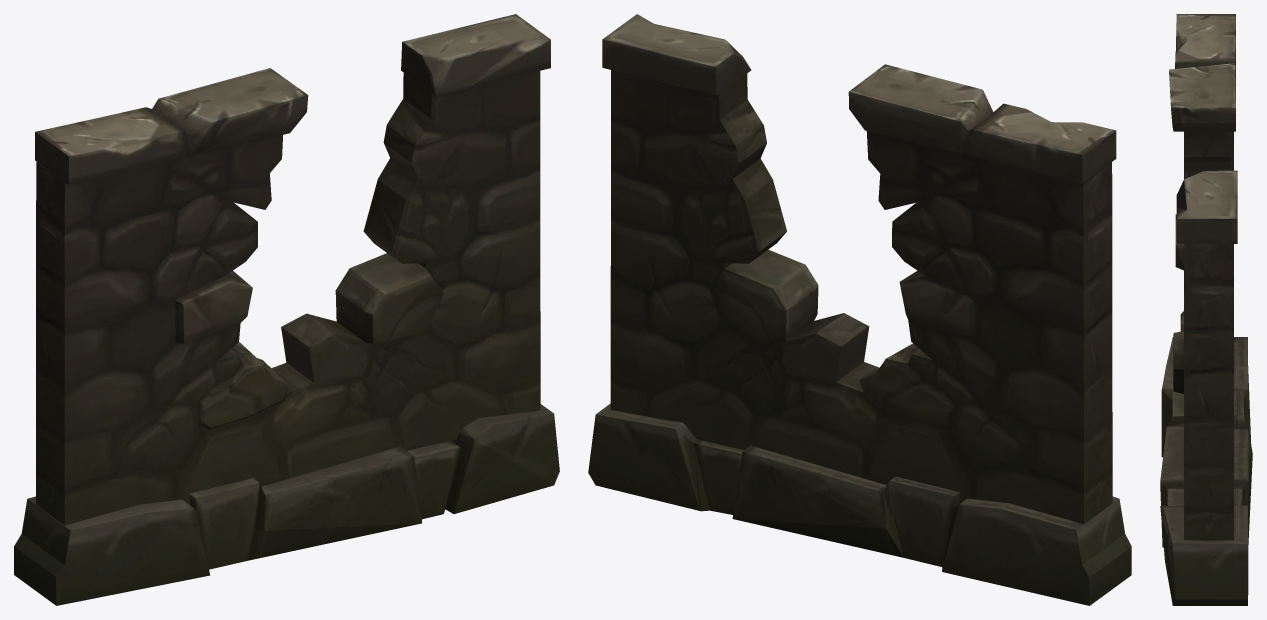
The model's file is humgraveyard_straight_04.fbx.
3 views of the same model, side by side, from view 1: azimuth 30°, elevation 25°; view 2: azimuth 150°, elevation 25°; view 3: azimuth 270°, elevation 25° (orthographic). The views are drawn at different scales.
Visible parts, largest first — view 1: obj0.508; view 2: obj0.508; view 3: obj0.508.
Boxes of the visible parts, <box> form: obj0.508: <box>14,14,559,605</box>; obj0.508: <box>588,14,1131,605</box>; obj0.508: <box>1160,14,1252,605</box>.
Size of the model in its own units: 4.77 by 4.08 by 0.872.
